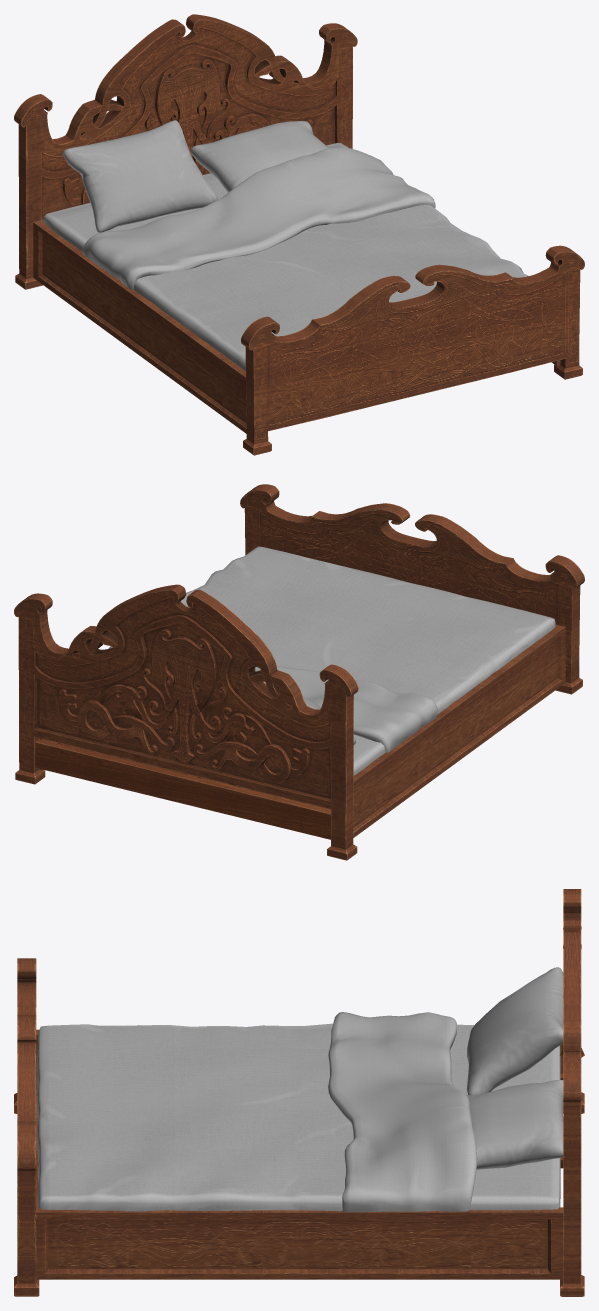
The model's file is bed (3).glb.
The picture shows the model from 3 angles, top to bottom: view 1: azimuth 30°, elevation 25°; view 2: azimuth 150°, elevation 25°; view 3: azimuth 270°, elevation 25°; orthographic projection. The views are drawn at different scales.
Parts seen in each view (by area): view 1: Object_5, Object_6, Object_3, Object_4, Object_8, Object_2, Object_7; view 2: Object_6, Object_3, Object_5, Object_2, Object_9, Object_7, Object_4; view 3: Object_3, Object_2, Object_4, Object_8, Object_5, Object_7, Object_6.
Part boxes in pixels (x1,y1,x2,y2): Object_5: (241,245,584,455); Object_6: (21,17,357,278); Object_3: (44,143,528,370); Object_4: (83,147,435,289); Object_8: (63,120,328,232); Object_2: (33,219,560,433); Object_7: (14,14,353,289); Object_6: (14,584,355,849); Object_3: (181,546,555,775); Object_5: (240,484,584,694); Object_2: (40,624,565,837); Object_9: (35,739,330,839); Object_7: (15,585,358,860); Object_4: (108,646,437,752); Object_3: (37,1023,560,1211); Object_2: (36,1029,563,1279); Object_4: (328,1012,477,1212); Object_8: (466,967,563,1169); Object_5: (14,958,39,1296); Object_7: (560,889,584,1296); Object_6: (560,889,584,1087).
Size of the model in its own units: 1.79 by 1.15 by 2.18.
Materials: 7 (7 with a texture image).
